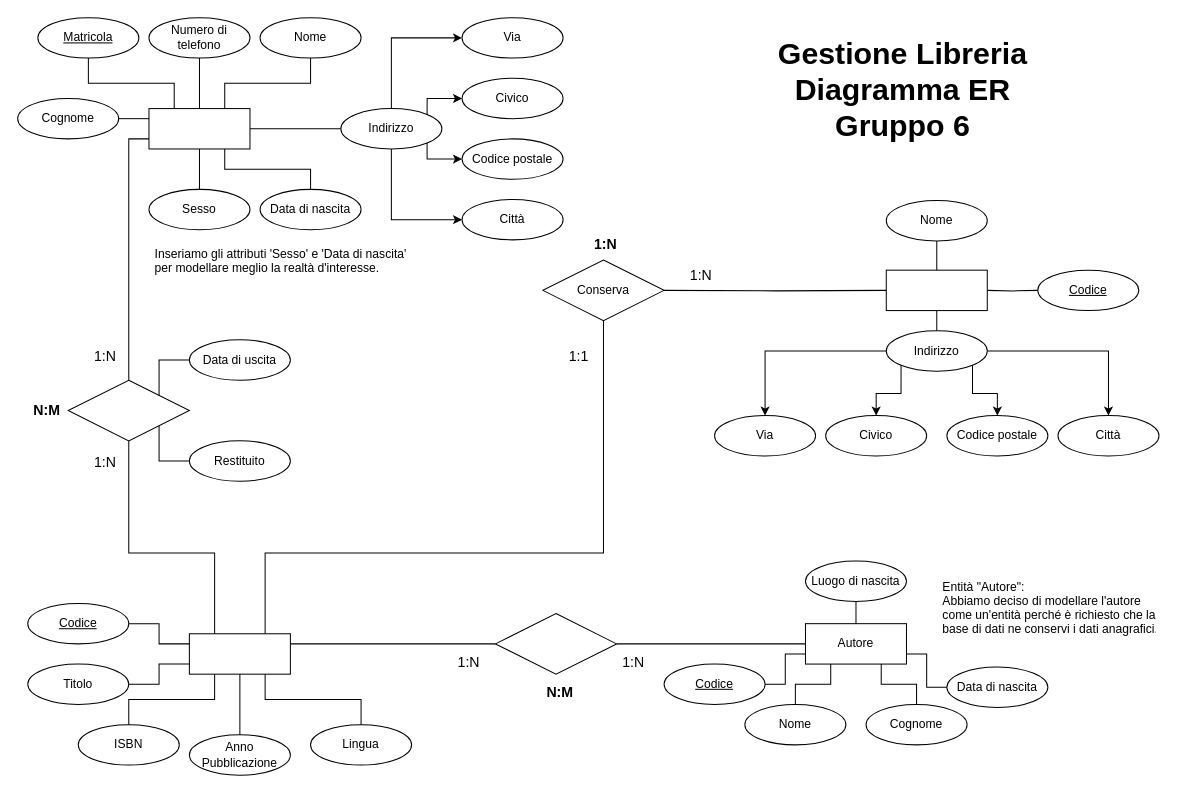
The diagram is 1178 pixels wide and 793 high, and some of its shapes have lost their labels. Here are the shapes that lost their labels. From the top down, the centre of each, then its label:
At point 199,128: "Utente".
At point 936,290: "Dipartimento".
At point 128,410: "Prestito".
At point 239,653: "Libro".
At point 555,643: "Scrive".
